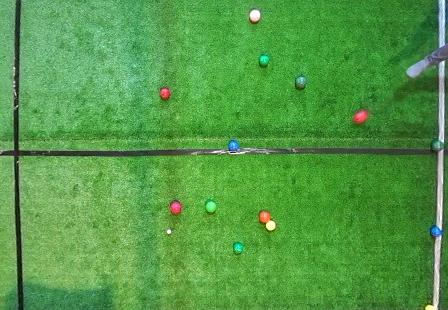blue: (430, 226, 440, 237), (229, 141, 239, 151)
green: (205, 201, 217, 213), (295, 76, 307, 87), (431, 141, 443, 151), (233, 243, 243, 254), (259, 55, 270, 65)
red: (353, 111, 368, 125), (170, 201, 182, 214), (259, 211, 271, 223), (249, 10, 261, 22), (160, 88, 170, 99)
vline: (1, 1, 26, 309), (432, 236, 447, 306), (435, 151, 447, 227), (437, 62, 447, 140), (436, 1, 447, 49)
white: (167, 229, 171, 234)
yellow: (266, 220, 276, 231), (424, 304, 439, 309)
